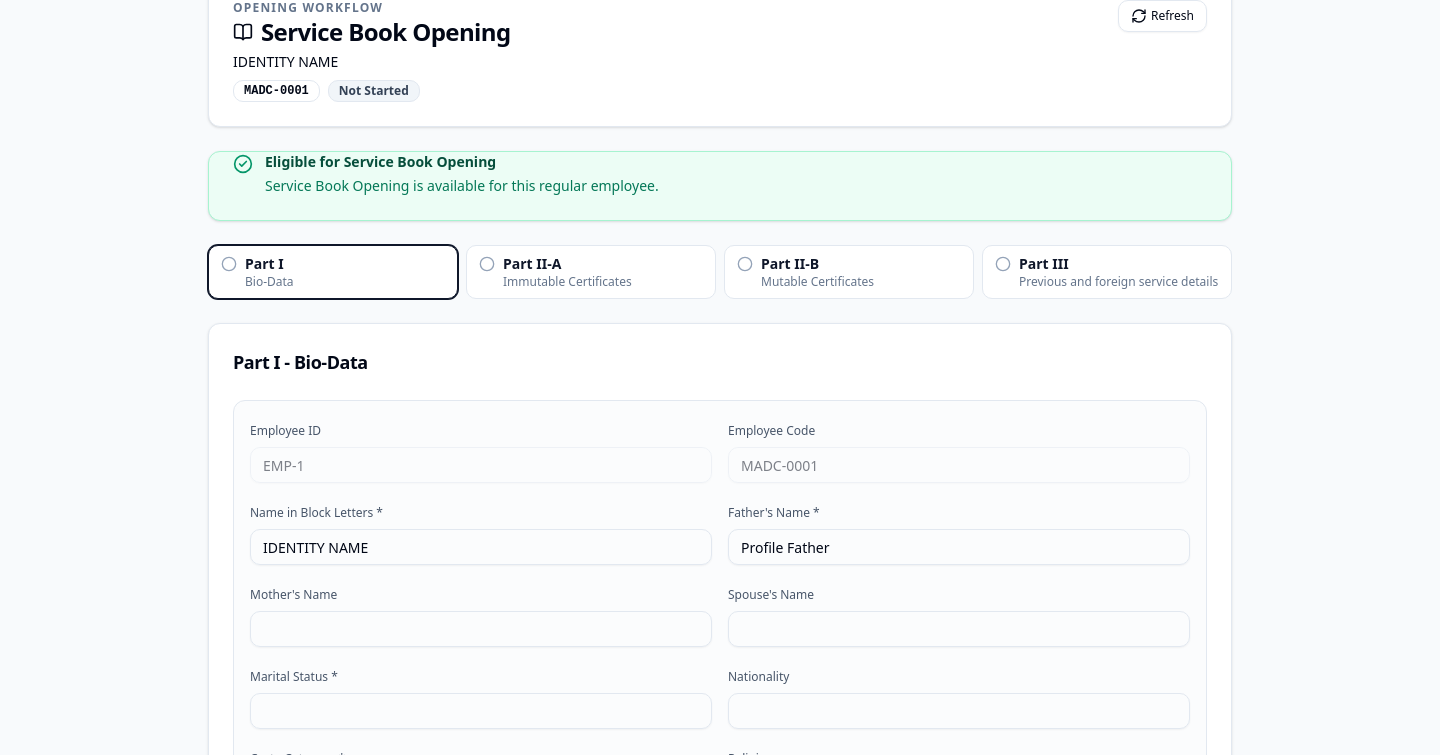
Test case: ServiceBookOpeningPage › final review step renders draft workflow actions for opening editors
Click the tab with test id "opening-step-tab-part_iii". click: (1107, 272)
box: [982,245,1232,299]
(page scrolled)
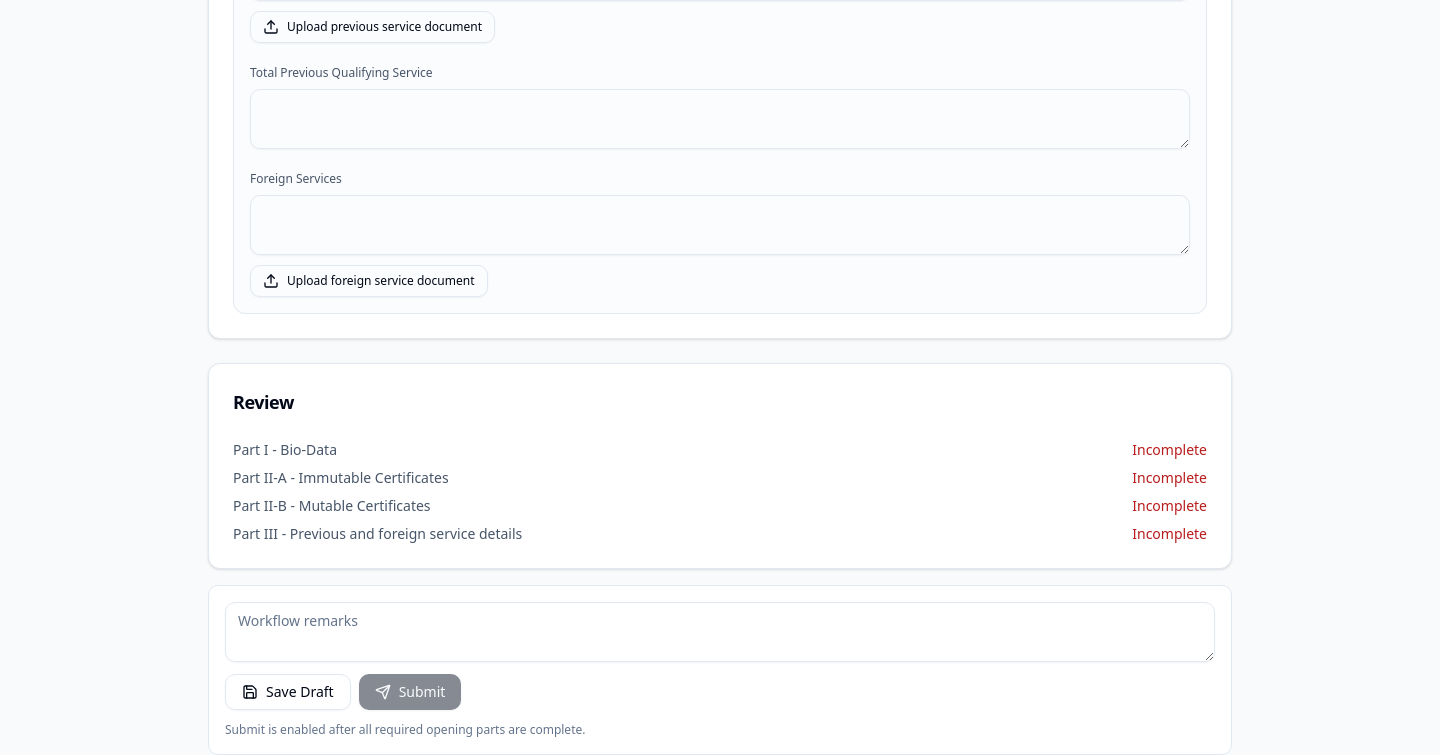
Expected: the text "Review" is shown, [233,390,294,414]
Expected: the element with test id "opening-workflow-actions" is shown, [208,585,1232,754]
Expected: the text box labelled "Workflow remarks" is shown, [225,602,1215,662]
